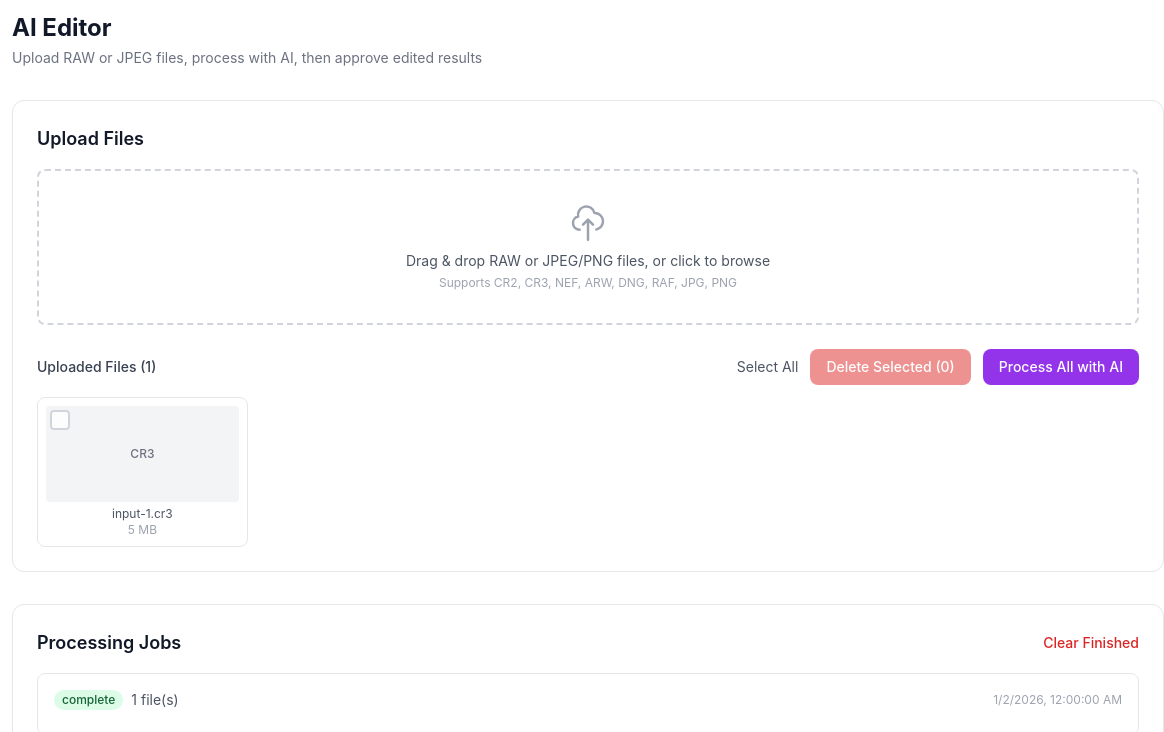
Scenario: ImagenEditor › clears finished jobs
Click the button "Clear Finished" at coordinates (1091, 643), box [1043, 633, 1139, 653]
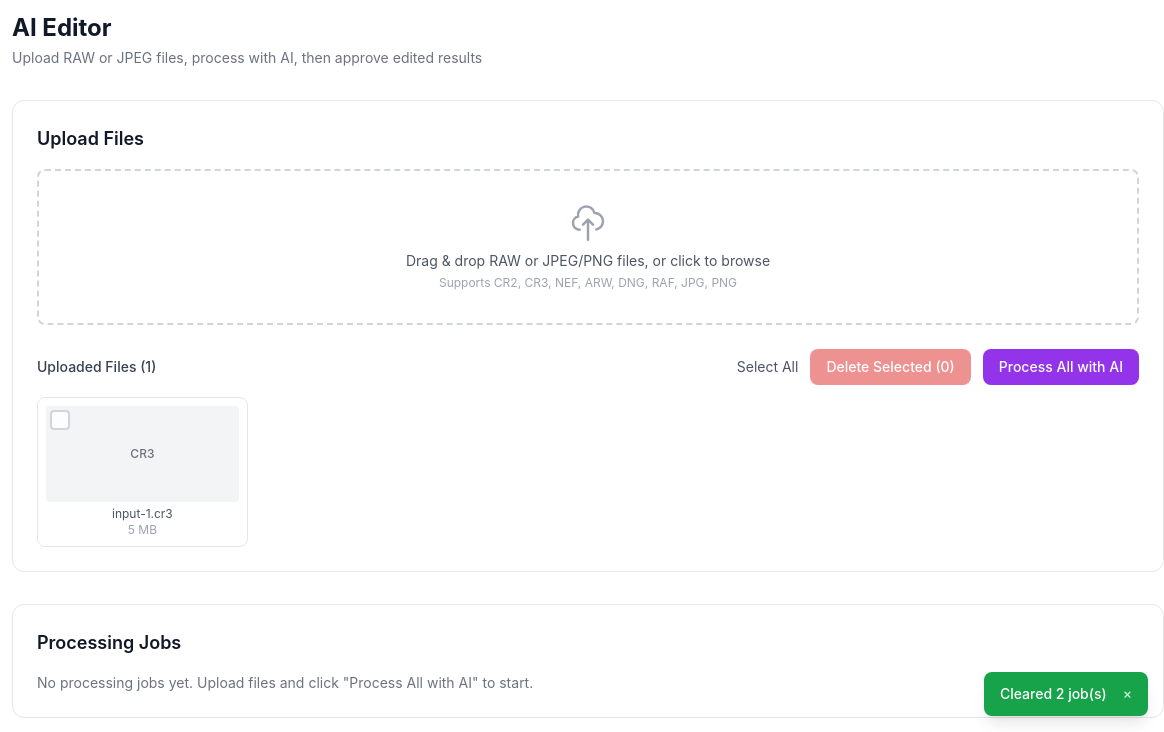
expect the message shows "Cleared 2 job(s)": met, box [1000, 685, 1107, 702]
